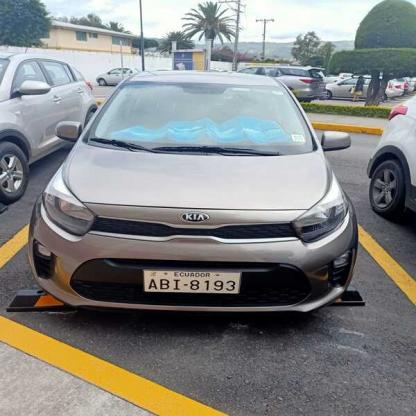Placa: (141, 262, 245, 298)
